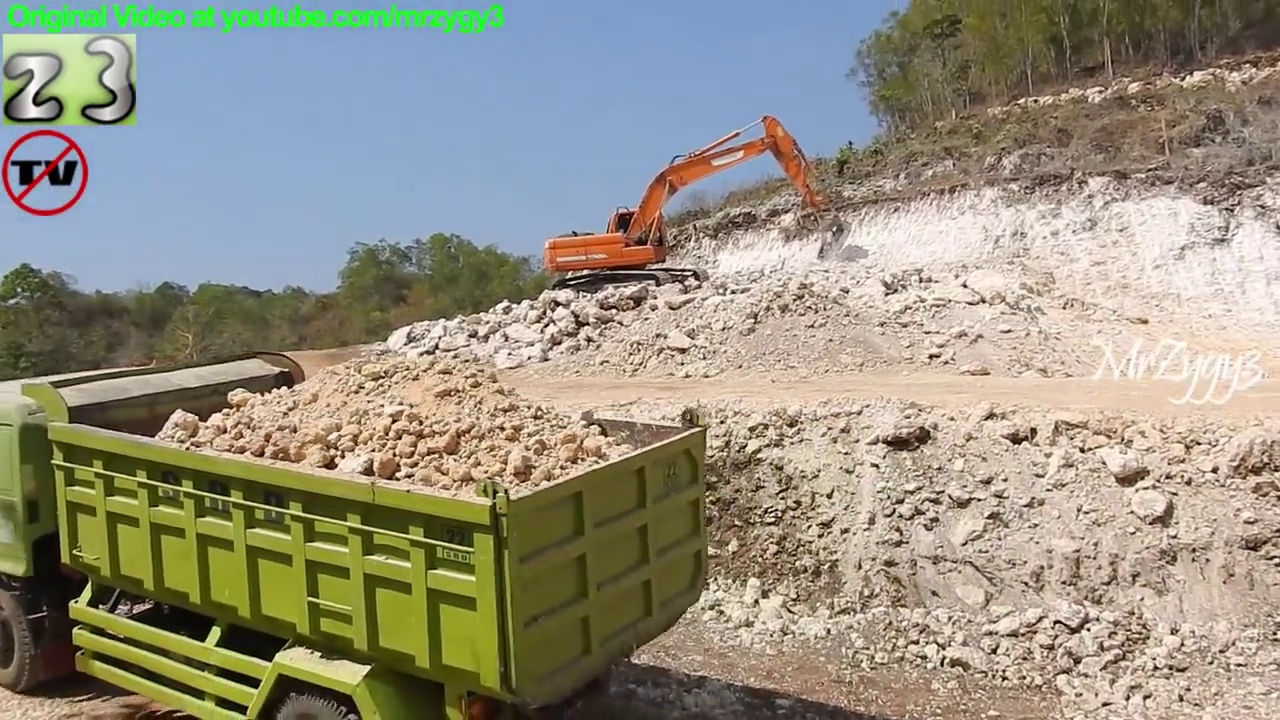excavator breaker: (541, 112, 854, 309)
truck: (1, 350, 715, 720)
